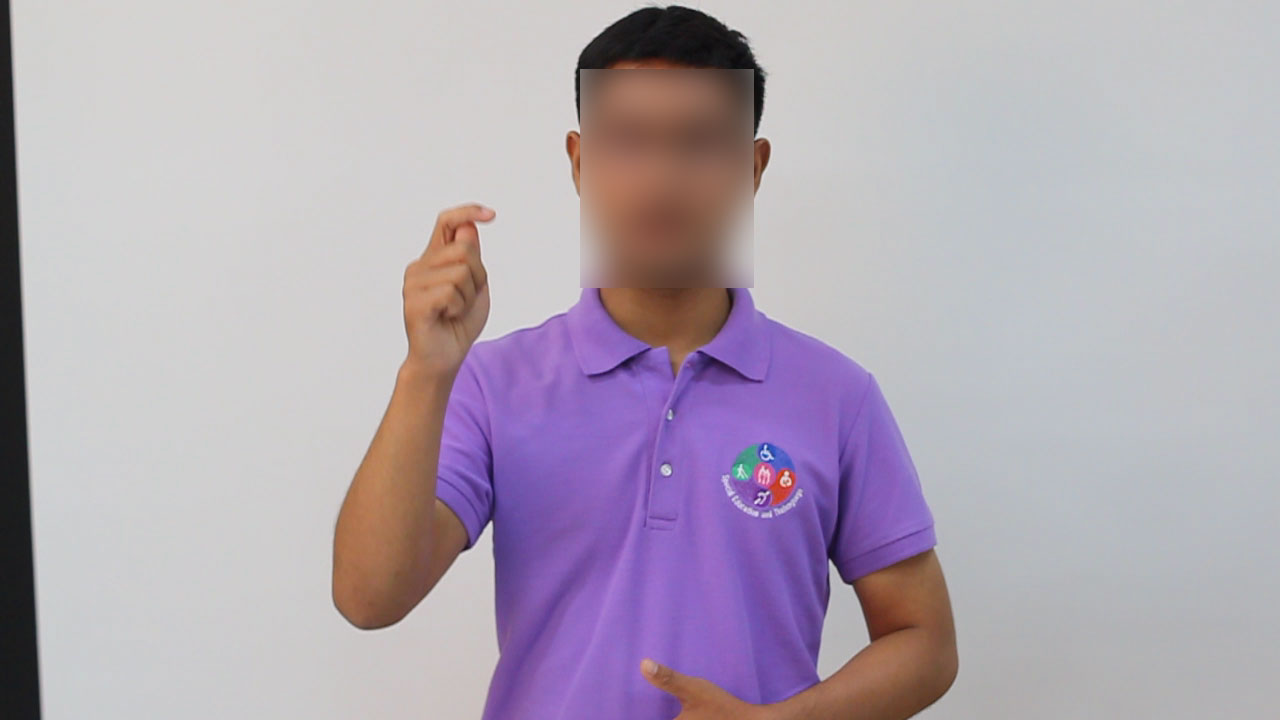or: (396, 193, 503, 393)
